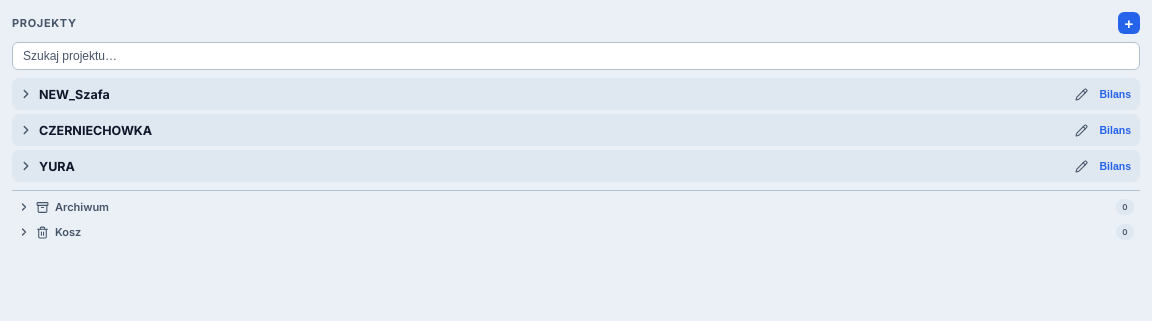
ProjectListPanel tree layout › toggles a client accordion and opens a project
Click the button "CZERNIECHOWKA" at (96, 130), box [13, 115, 1068, 145]
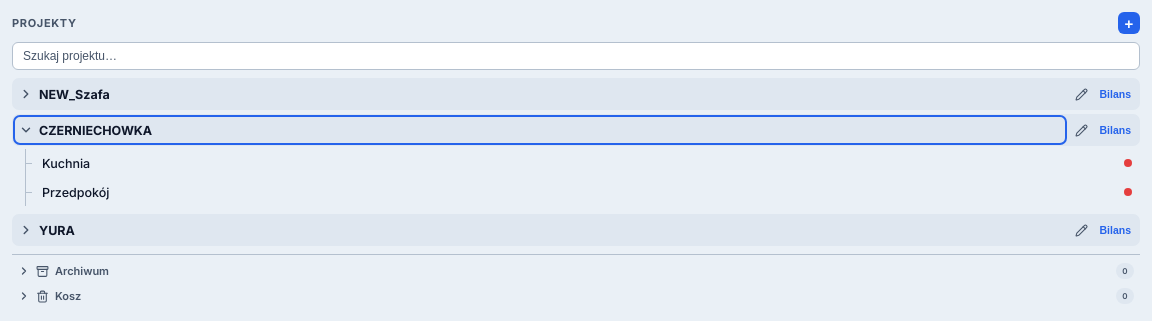
Result: the button "CZERNIECHOWKA" is expanded at [13, 115, 1068, 145]
Click the button "Przedpokój" at (76, 192), box [42, 184, 1132, 200]
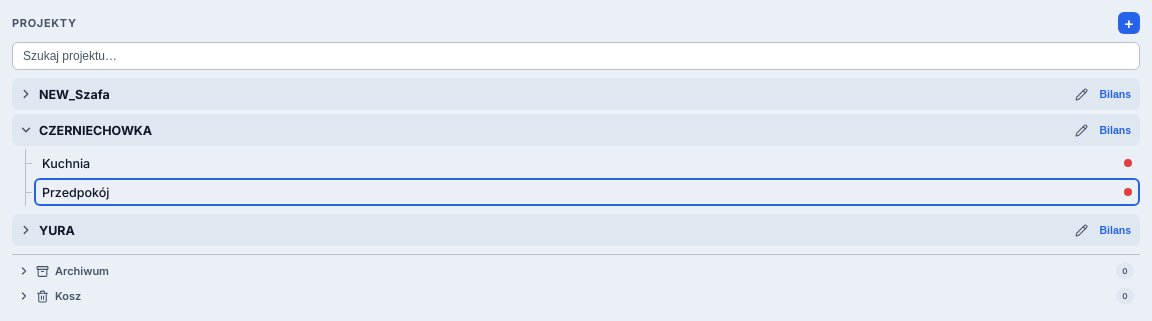
Click the button "CZERNIECHOWKA" at (96, 130), box [13, 115, 1068, 145]
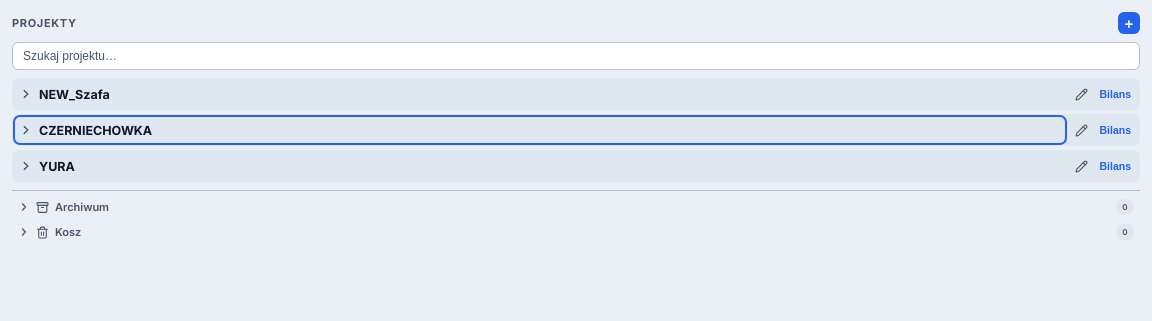
Result: the button "Przedpokój" is gone
